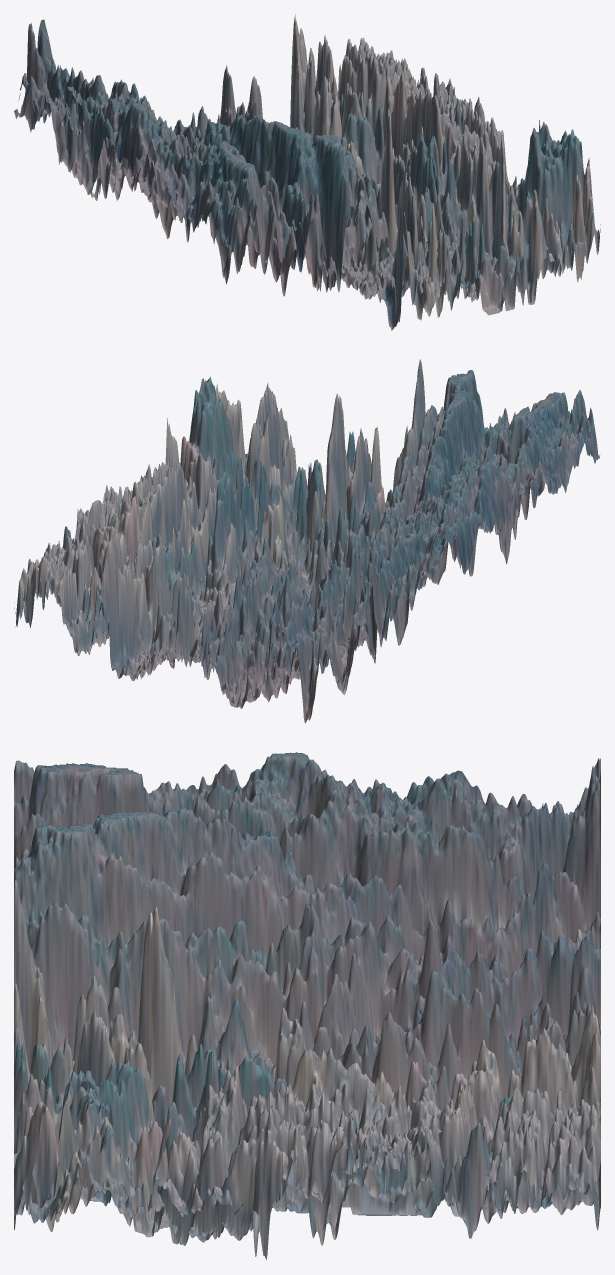
The model's file is dsm_81b1cb3515_mesh.glb.
3 renders of one model, top to bottom at view 1: azimuth 30°, elevation 25°; view 2: azimuth 150°, elevation 25°; view 3: azimuth 270°, elevation 25°, orthographic. The views are drawn at different scales.
Parts seen in each view (by area): view 1: geometry_0; view 2: geometry_0; view 3: geometry_0.
Boxes of the visible parts, left/top/right/bottom form: geometry_0: left=14, top=14, right=600, bottom=330; geometry_0: left=14, top=359, right=600, bottom=723; geometry_0: left=14, top=752, right=600, bottom=1260.
Bounding box in the file's own units: 2 × 1 × 2.
